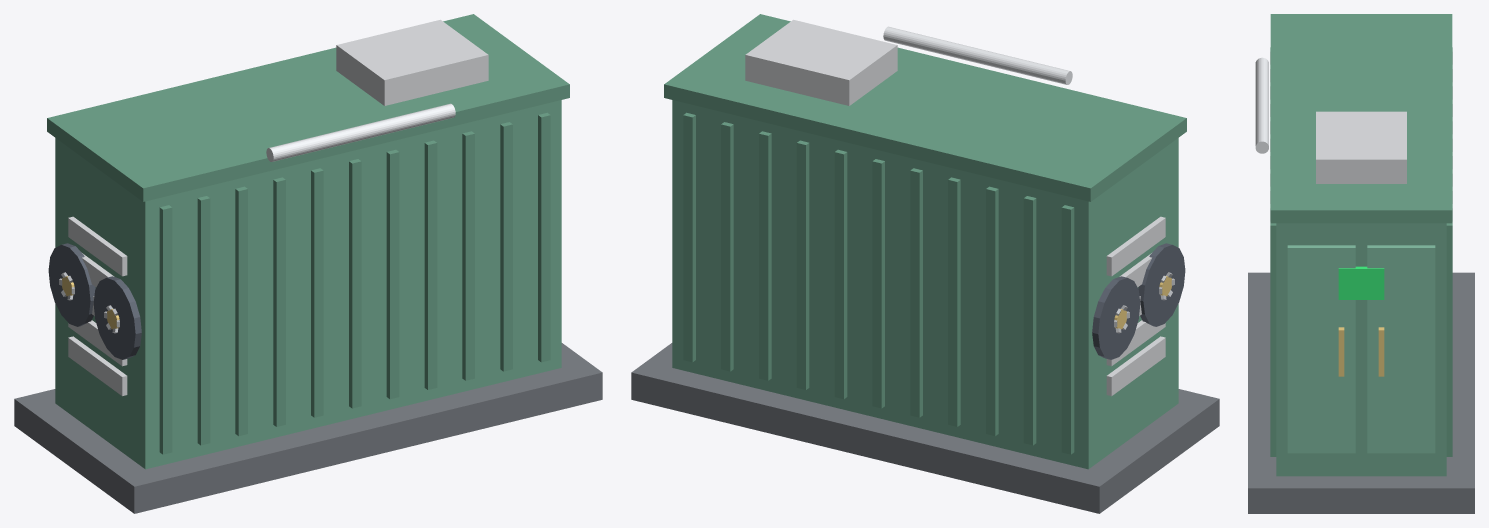
Rendered from battery.glb.
The picture shows the model from 3 angles, left to right: view 1: azimuth 30°, elevation 25°; view 2: azimuth 150°, elevation 25°; view 3: azimuth 270°, elevation 25°; orthographic projection. The views are drawn at different scales.
Visible parts, largest first — view 1: body, roof, pad, exhaust, rib_13, rib, rib_15, rib_3, rib_17, rib_19, rib_21, rib_11 (+9 smaller); view 2: body, roof, pad, exhaust, rib_14, rib_2, rib_16, rib_4, rib_18, rib_20, rib_22, rib_12 (+9 smaller); view 3: roof, pad, body, door, door_2, exhaust, rib_21, rib_22, led_status, conduit_pipe, handle, handle_2.
Part boxes in pixels (<box>): body: <box>55,100,561,469</box>; roof: <box>47,14,569,201</box>; pad: <box>14,343,602,513</box>; exhaust: <box>336,19,488,105</box>; rib_13: <box>386,149,399,399</box>; rib: <box>159,205,172,454</box>; rib_15: <box>424,140,437,389</box>; rib_3: <box>197,196,210,445</box>; rib_17: <box>462,131,474,380</box>; rib_19: <box>500,122,512,371</box>; rib_21: <box>538,112,550,362</box>; rib_11: <box>349,159,361,408</box>; body: <box>672,100,1178,469</box>; roof: <box>664,14,1186,201</box>; pad: <box>631,343,1219,513</box>; exhaust: <box>745,19,897,105</box>; rib_14: <box>834,149,847,399</box>; rib_2: <box>1061,205,1074,454</box>; rib_16: <box>796,140,809,389</box>; rib_4: <box>1023,196,1036,445</box>; rib_18: <box>759,131,771,380</box>; rib_20: <box>721,122,733,371</box>; rib_22: <box>683,112,695,362</box>; rib_12: <box>872,159,884,408</box>; roof: <box>1270,14,1452,223</box>; pad: <box>1248,272,1474,513</box>; body: <box>1276,223,1446,476</box>; door: <box>1367,245,1435,453</box>; door_2: <box>1287,245,1355,453</box>; exhaust: <box>1316,111,1406,183</box>; rib_21: <box>1270,222,1276,456</box>; rib_22: <box>1446,222,1452,456</box>; led_status: <box>1338,266,1384,299</box>; conduit_pipe: <box>1255,57,1268,153</box>; handle: <box>1378,327,1384,376</box>; handle_2: <box>1338,327,1344,376</box>.
Size of the model in its own units: 9 by 6.2 by 4.
